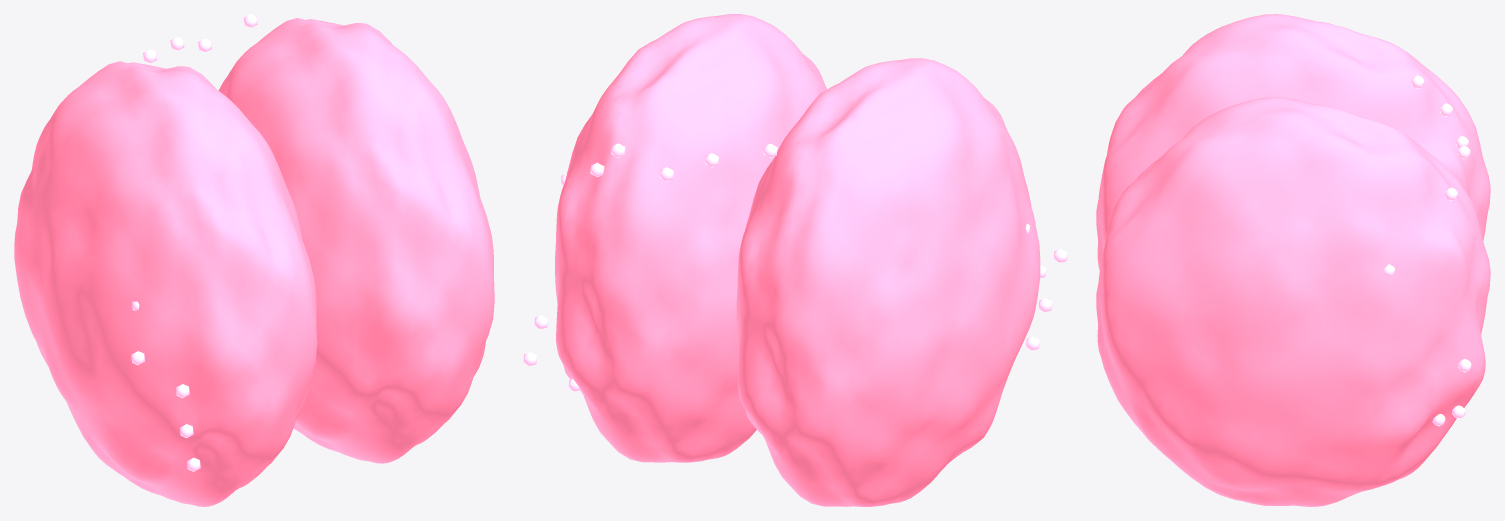
The model's file is brain.glb.
3 renders of one model, left to right at view 1: azimuth 30°, elevation 25°; view 2: azimuth 150°, elevation 25°; view 3: azimuth 270°, elevation 25°, orthographic. The views are drawn at different scales.
Visible parts, largest first — view 1: Icosphere.001, Icosphere; view 2: Icosphere.001, Icosphere; view 3: Icosphere, Icosphere.001.
Part boxes in pixels (x1,y1,x2,y2): Icosphere.001: (14,61,317,506); Icosphere: (218,18,494,463); Icosphere.001: (736,58,1040,506); Icosphere: (555,14,827,462); Icosphere: (1096,97,1490,506); Icosphere.001: (1096,14,1490,270).
Size of the model in its own units: 2.3 by 2.31 by 2.09.
